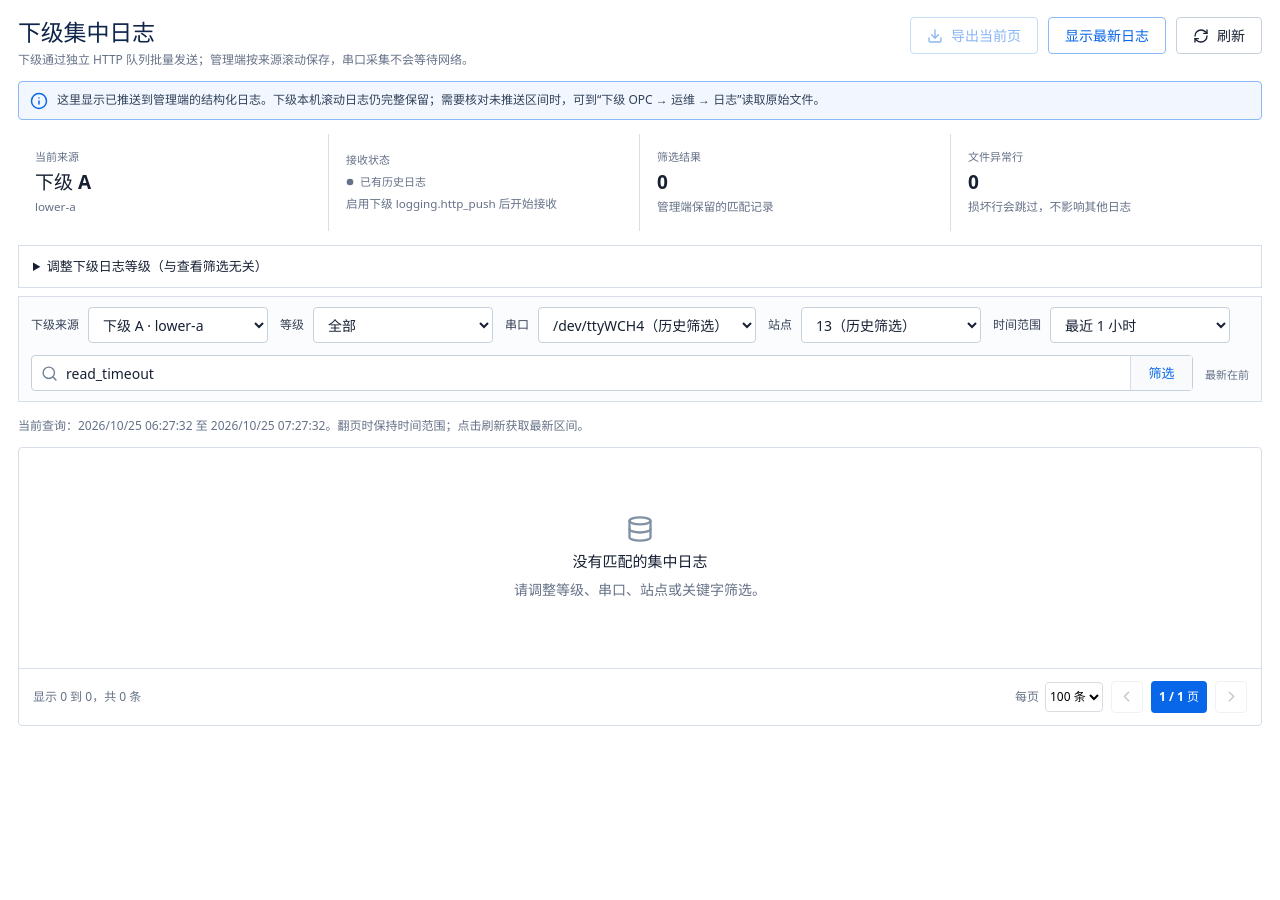
Test: central lower log filters › keeps filter inputs synchronized with browser history navigation
Expected: the dropdown labelled "串口" shows "/dev/ttyWCH4（历史筛选）", [538,307,756,343]
Expected: the dropdown labelled "站点" shows "13（历史筛选）", [801,307,981,343]
Click the button "显示最新日志".
click(1107, 36)  # box [1048,17,1166,54]
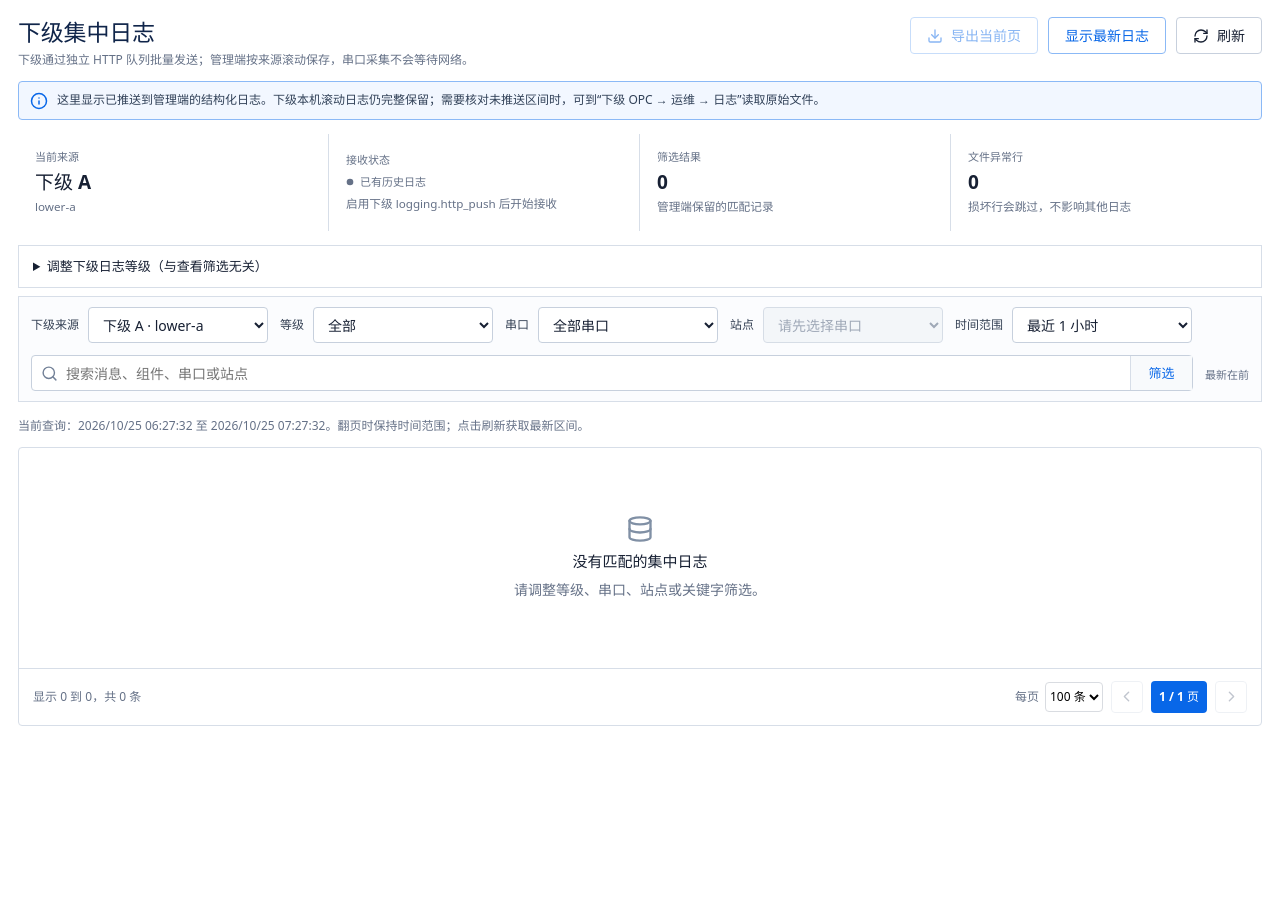
Now the dropdown labelled "串口" shows "全部串口", box [538,307,718,343]
Now the dropdown labelled "站点" shows "请先选择串口", box [763,307,943,343]
Now the field with placeholder "搜索消息、组件、串口或站点" is empty, box [31,355,1193,391]
